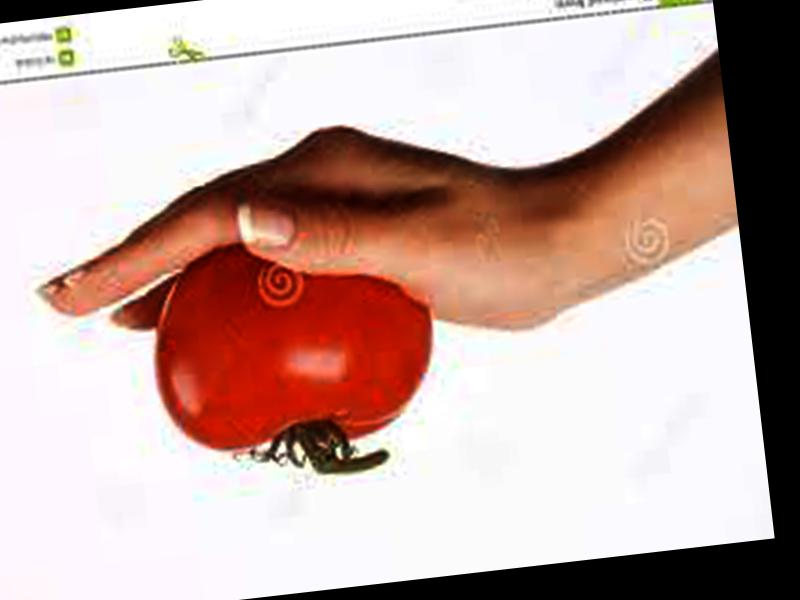Tomato: (143, 225, 442, 459)
